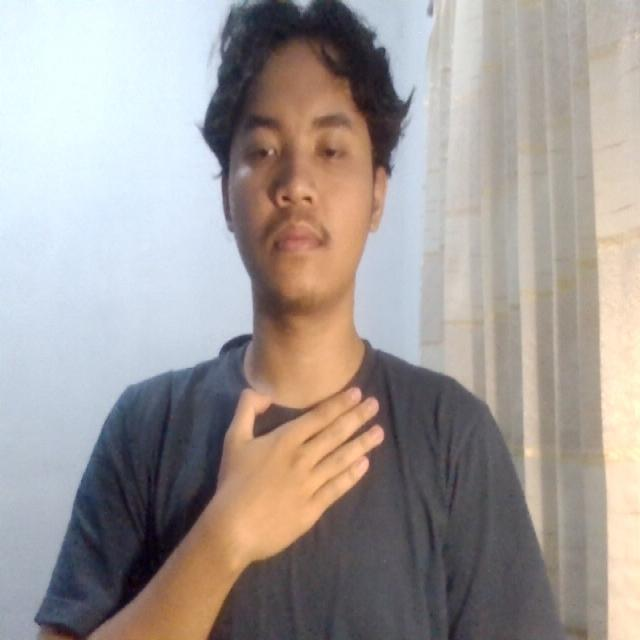Nama: (204, 352, 404, 565)
